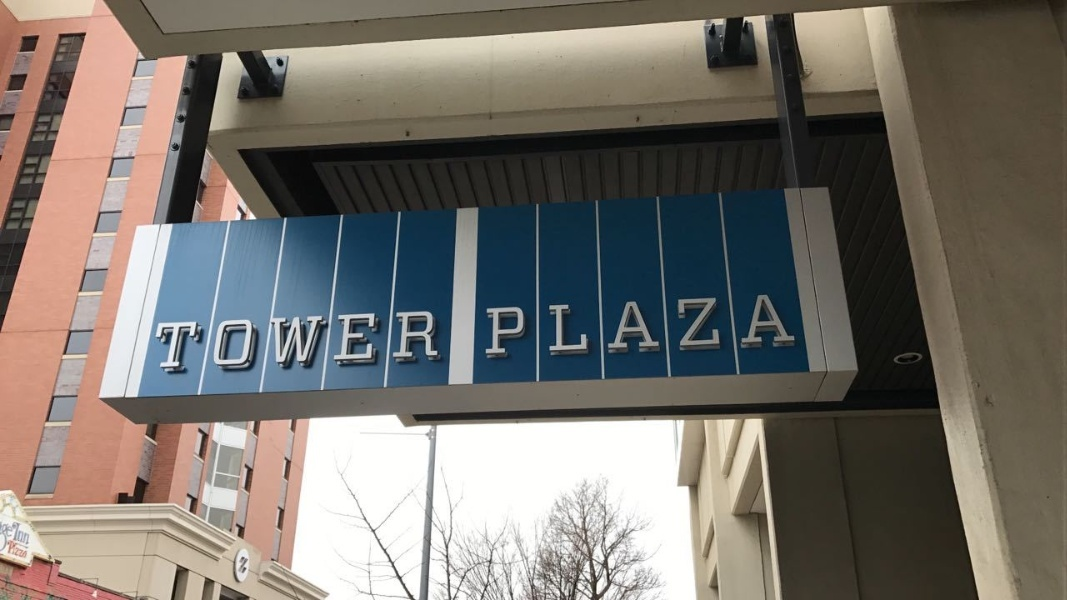text: (497, 293, 512, 360), (513, 293, 528, 360), (529, 293, 544, 360), (545, 293, 560, 360), (561, 293, 576, 360), (577, 293, 592, 360), (593, 293, 608, 360), (609, 293, 624, 360), (625, 293, 640, 360), (641, 293, 656, 360), (657, 293, 672, 360), (673, 293, 688, 360), (689, 293, 704, 360), (705, 293, 720, 360), (721, 293, 736, 360), (737, 293, 752, 360), (753, 293, 768, 360), (769, 293, 784, 360), (785, 293, 800, 360), (161, 310, 176, 371), (177, 310, 192, 371), (193, 310, 208, 371), (209, 310, 224, 371), (225, 310, 240, 371), (241, 310, 256, 371), (257, 310, 272, 371), (273, 310, 288, 371), (289, 310, 304, 371), (305, 310, 320, 371), (321, 310, 336, 371), (337, 310, 352, 371), (353, 310, 368, 371), (369, 310, 384, 371), (385, 310, 400, 371), (401, 310, 416, 371), (417, 310, 432, 371), (483, 293, 496, 360), (433, 310, 441, 371), (17, 518, 33, 546), (153, 310, 160, 371), (241, 554, 256, 575), (17, 540, 29, 559), (8, 518, 16, 546), (9, 540, 16, 559), (801, 293, 802, 360)
